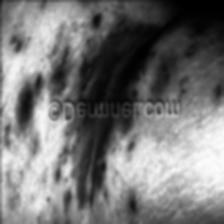Non-Cancerous Skin Condition: (0, 0, 218, 220)
